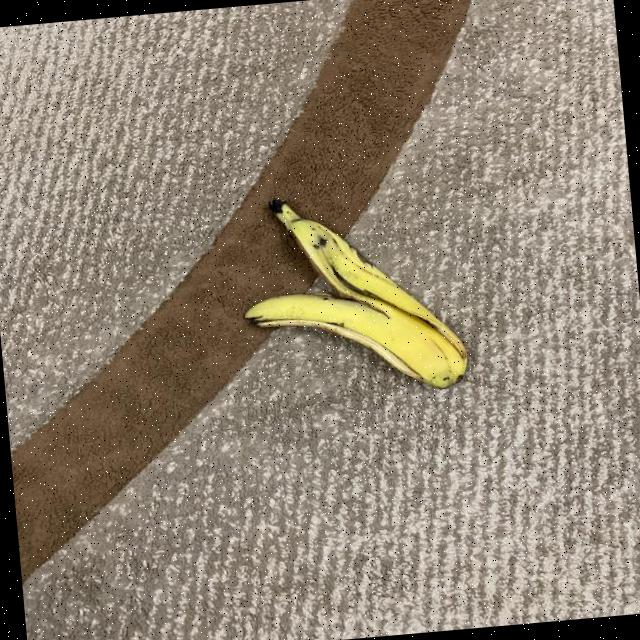banana-peel: (232, 180, 470, 405)
